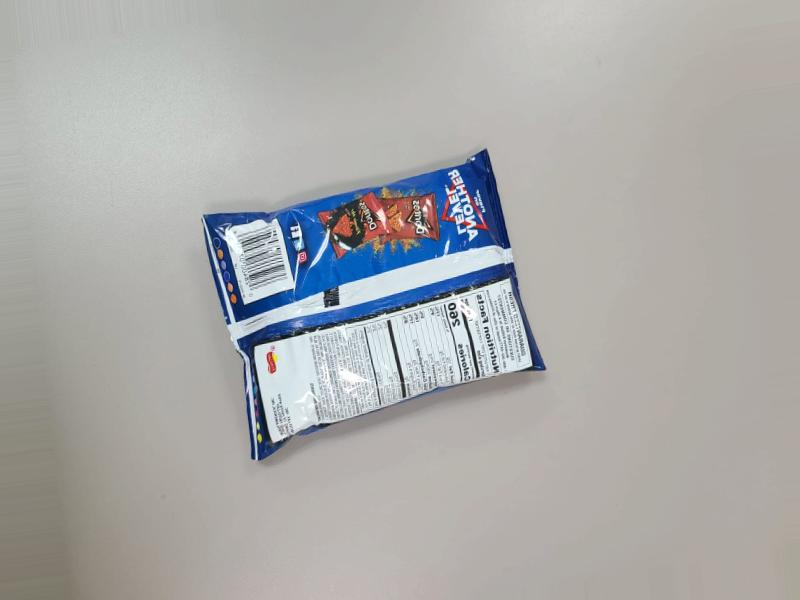doritos: (200, 128, 564, 479)
